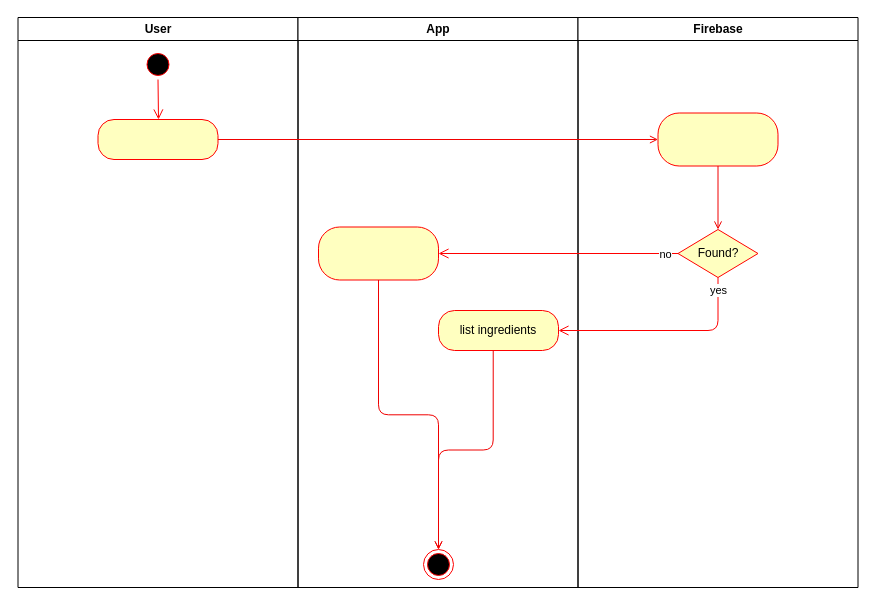
The diagram is 875 pixels wide and 605 high, and some of its shapes have lost their labels. The centre of each missing label's shape, as x and y in pixels:
fetch information about Climate Impact: pixel 717 139
opens product page: pixel 157 139
show info that no ingredients are present: pixel 378 253
